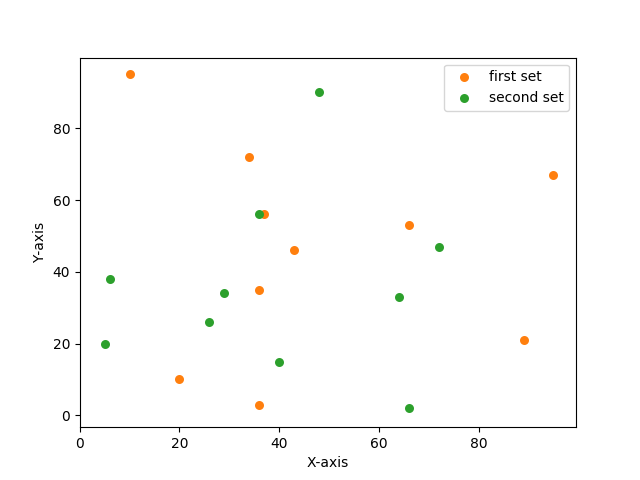canvas: (87, 62, 572, 420)
legend: (452, 68, 566, 107)
x-axis: (75, 422, 578, 434)
x-labels: (74, 435, 494, 449)
x-title: (306, 454, 350, 472)
y-axis: (75, 55, 84, 434)
y-labels: (51, 54, 71, 433)
y-title: (26, 221, 49, 264)
